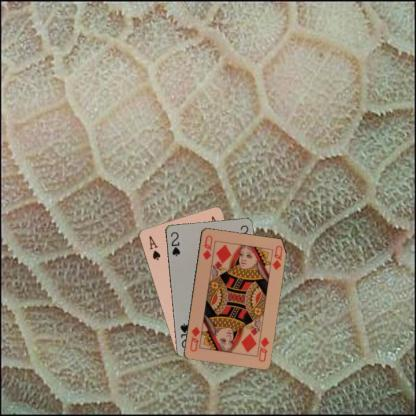2s: (168, 229, 182, 257)
As: (146, 233, 161, 261)
Qd: (254, 332, 270, 362), (200, 233, 214, 261)
